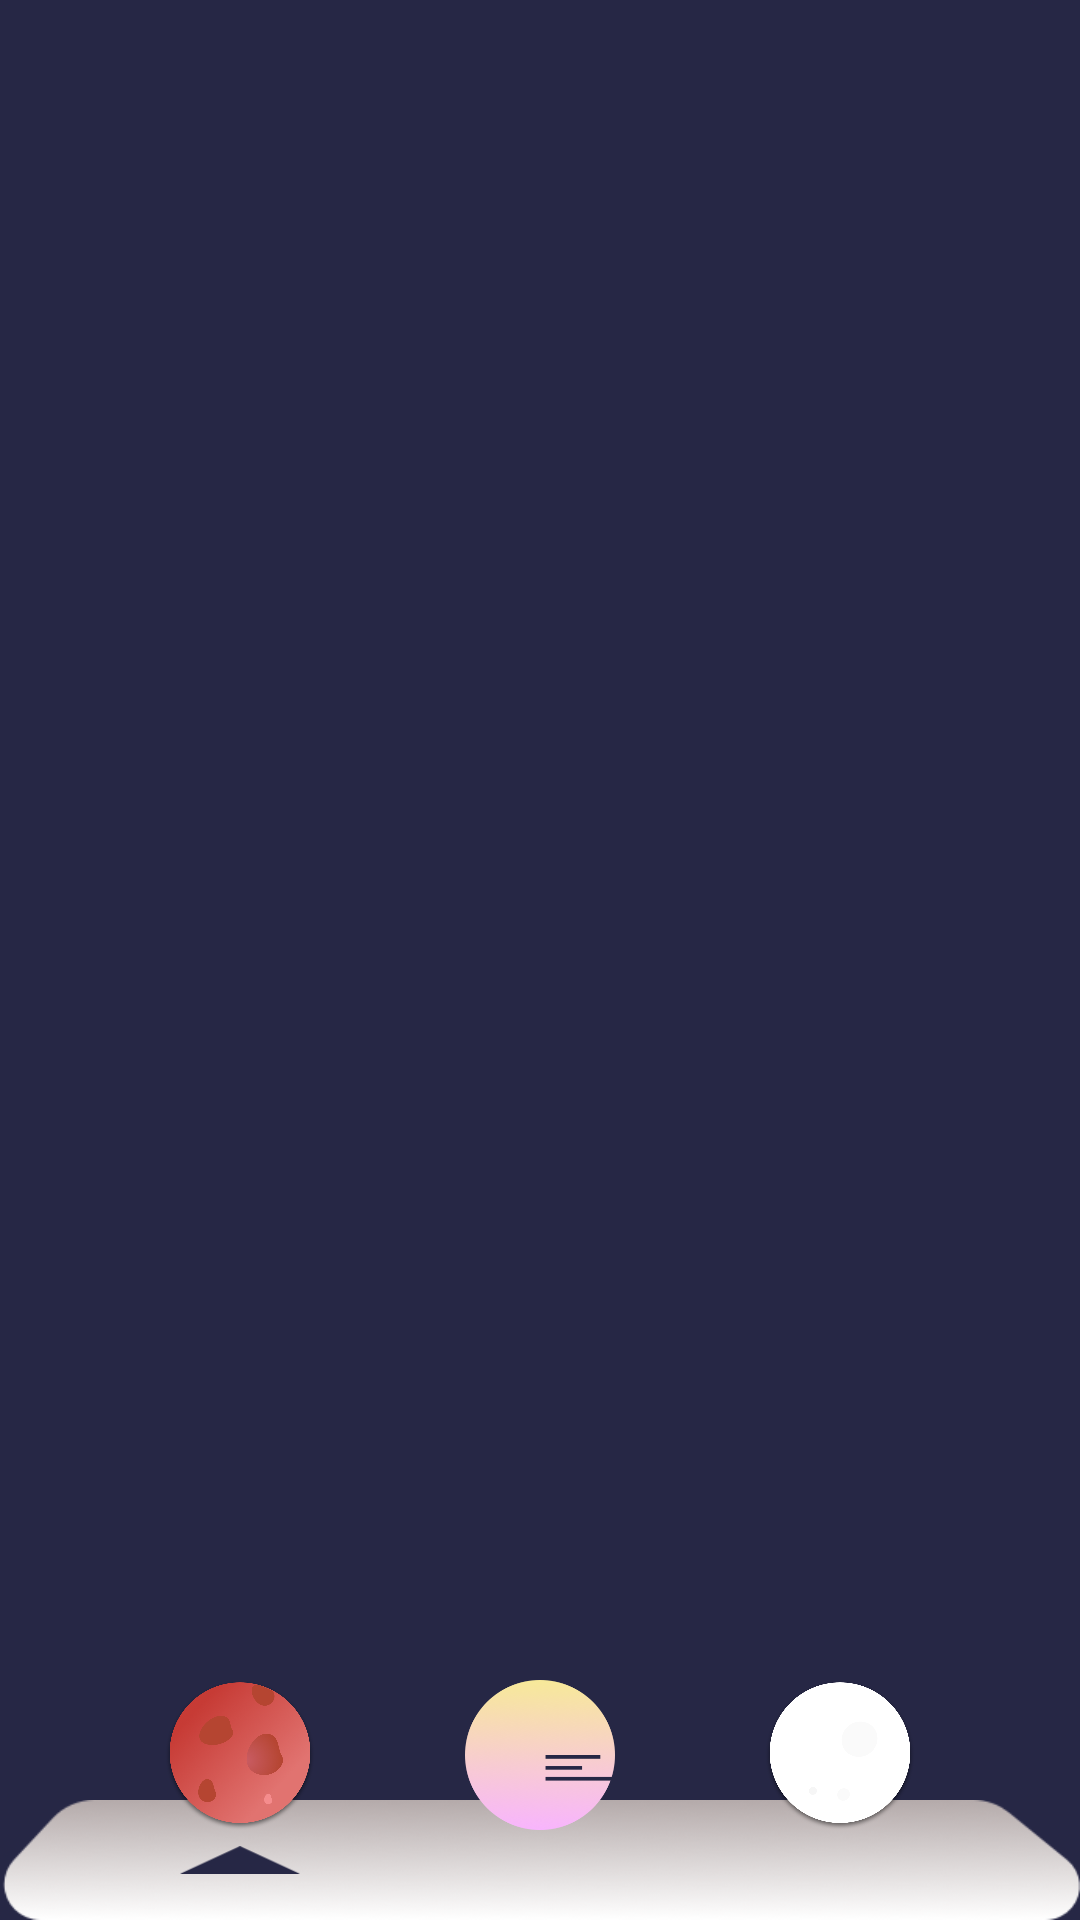

Icons on this 1080*1920 Android screen, each with its box as (x1=x1, y1=y1, x2=x2, y2=y2):
mars: (x1=165, y1=1682, x2=315, y2=1830)
moon: (x1=765, y1=1682, x2=915, y2=1830)
